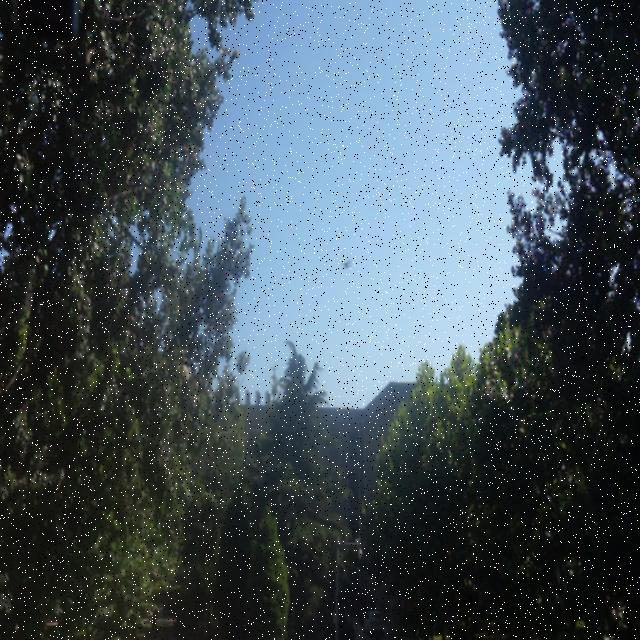UAV: (341, 260, 352, 270)
